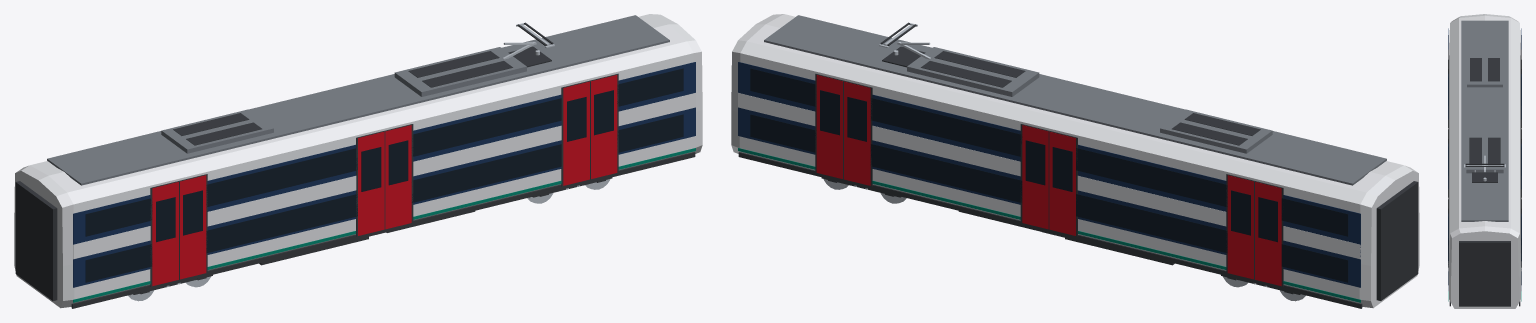
The model's file is rer_a_mi09_car.glb.
3 views of the same model, side by side, from view 1: azimuth 30°, elevation 25°; view 2: azimuth 150°, elevation 25°; view 3: azimuth 270°, elevation 25° (orthographic). The views are drawn at different scales.
Parts seen in each view (by area): view 1: rer_a_mi09_neutral; view 2: rer_a_mi09_neutral; view 3: rer_a_mi09_neutral.
Boxes of the visible parts, x1,y1,x2,y2 form: rer_a_mi09_neutral: (14, 14, 702, 308); rer_a_mi09_neutral: (731, 14, 1419, 308); rer_a_mi09_neutral: (1448, 14, 1521, 308).
Bounding box in the file's own units: 20.94 × 4.88 × 2.97.
Materials: 1 (1 with a texture image).
